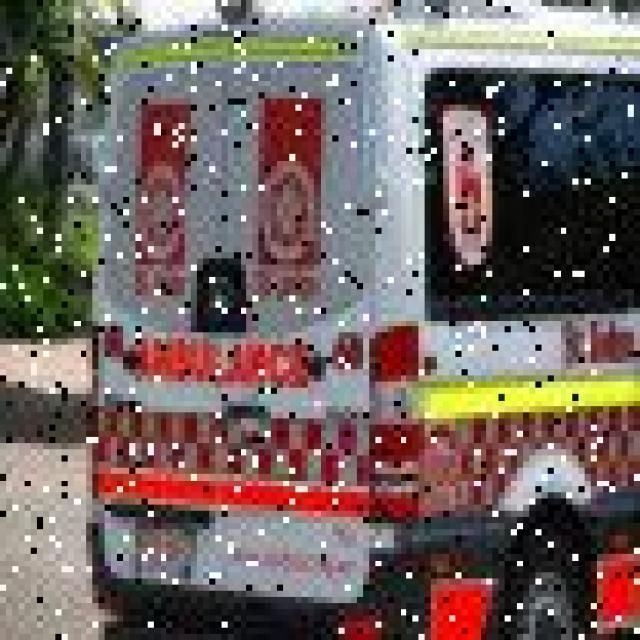emergency-vehicle: (95, 0, 637, 640)
